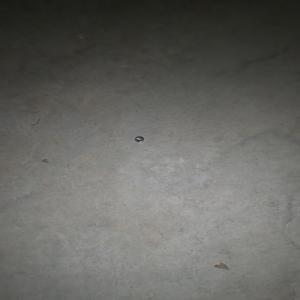Nut: (134, 136, 144, 142)
